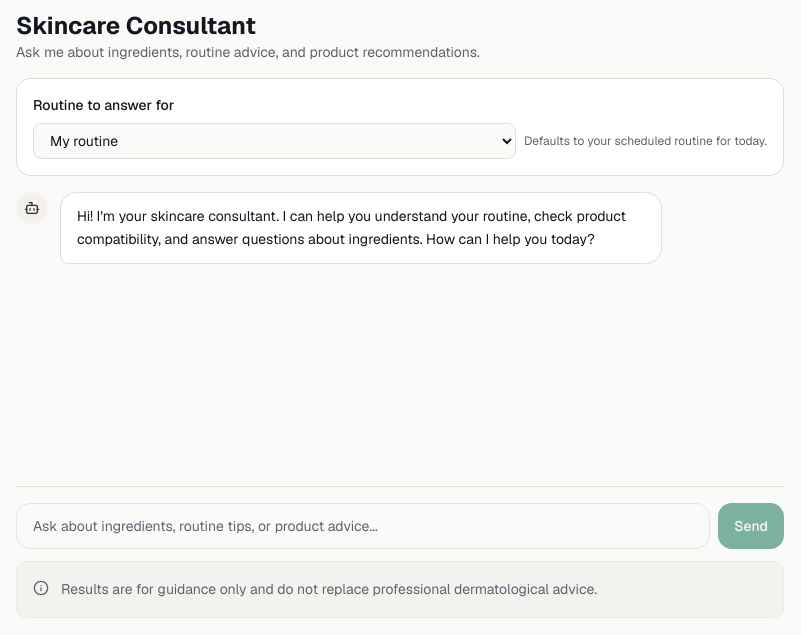
Test: ChatPage › sends chat with the selected routine payload
The width and height of the screenshot is (801, 635).
expect the dropdown labelled "Routine to answer for" shows "My routine": met, box top-left (33, 123), bottom-right (516, 159)
Type "hello" into the text box named "message input" at (363, 526), box top-left (16, 503), bottom-right (710, 549)
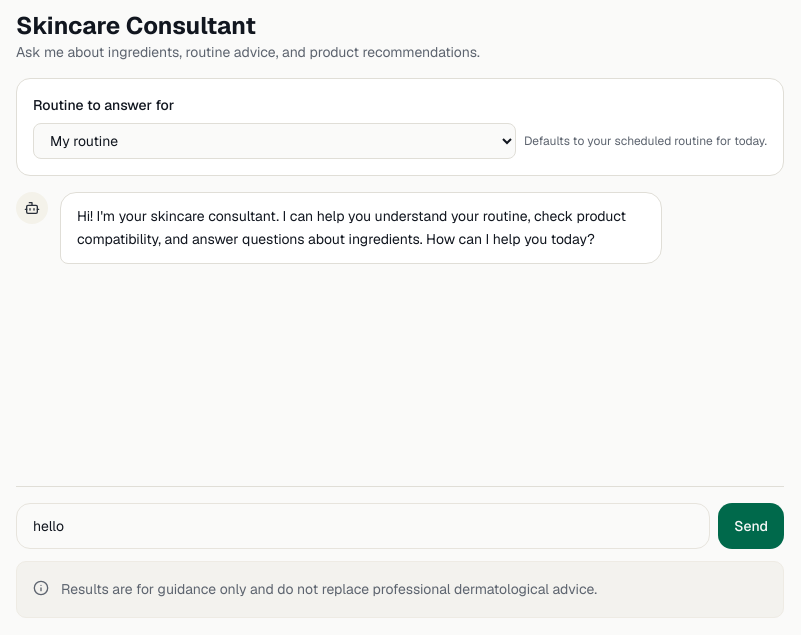
Click the button "Send" at (751, 526), box top-left (718, 503), bottom-right (784, 549)
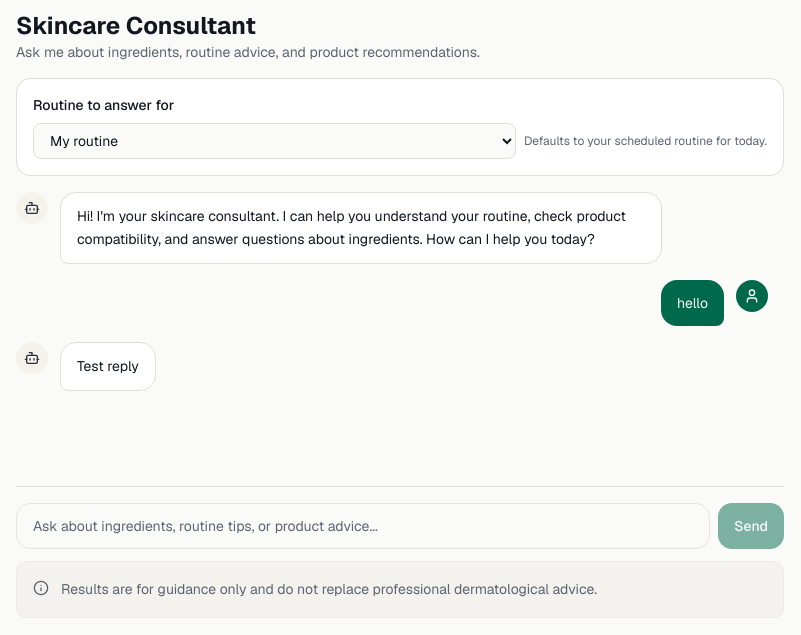
expect the text "hello" is shown: met, box top-left (677, 292), bottom-right (708, 314)
